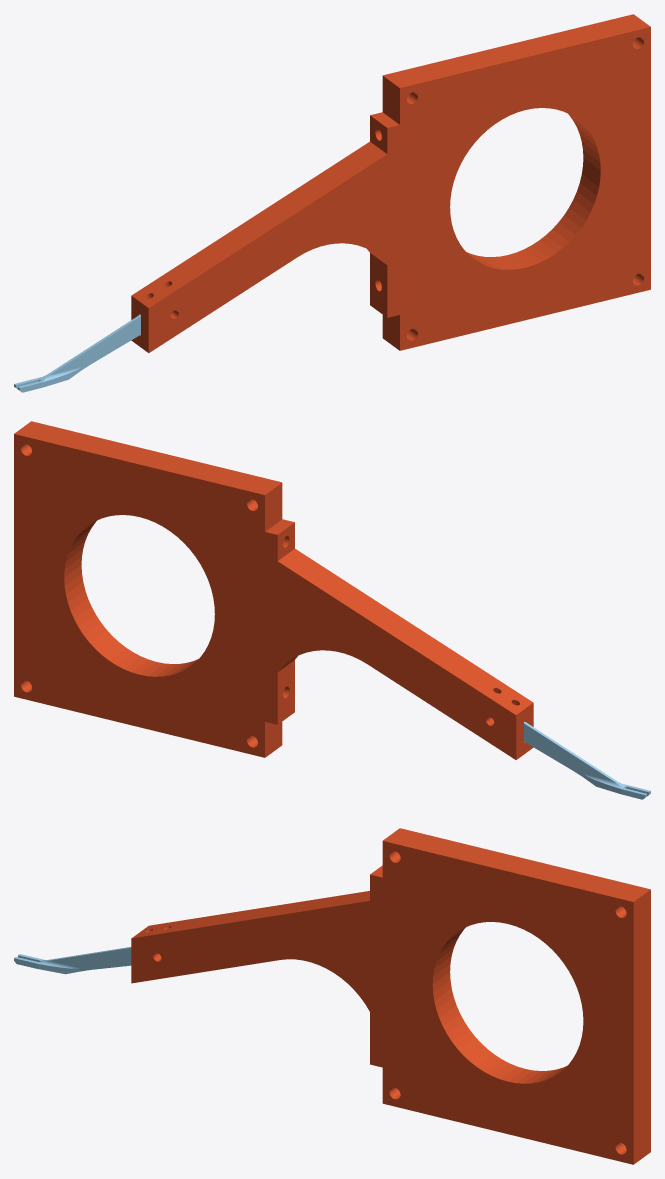
Rendered from tweezer_assembly.dae.
3 renders of one model, top to bottom at view 1: azimuth 30°, elevation 25°; view 2: azimuth 150°, elevation 25°; view 3: azimuth 330°, elevation 25°, orthographic.
Parts seen in each view (by area): view 1: base, arm, tweezer; view 2: base, arm, tweezer; view 3: base, arm, tweezer.
Part boxes in pixels (box(x1,y1,x2,y2)): base: box(382, 14, 650, 350); arm: box(131, 112, 399, 352); tweezer: box(14, 314, 140, 392); base: box(14, 421, 282, 757); arm: box(265, 519, 533, 759); tweezer: box(524, 721, 650, 799); base: box(382, 828, 650, 1164); arm: box(131, 865, 382, 1067); tweezer: box(14, 947, 131, 974).
Bounding box in the file's own units: 0.1245 × 0.006 × 0.05.
